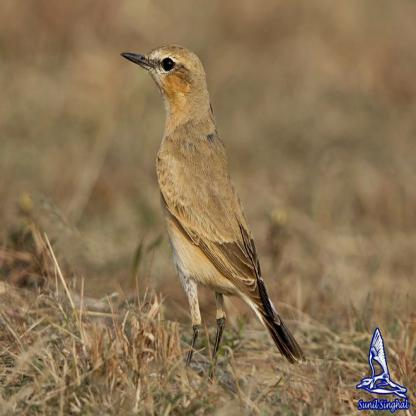Burung: (121, 43, 304, 384)
